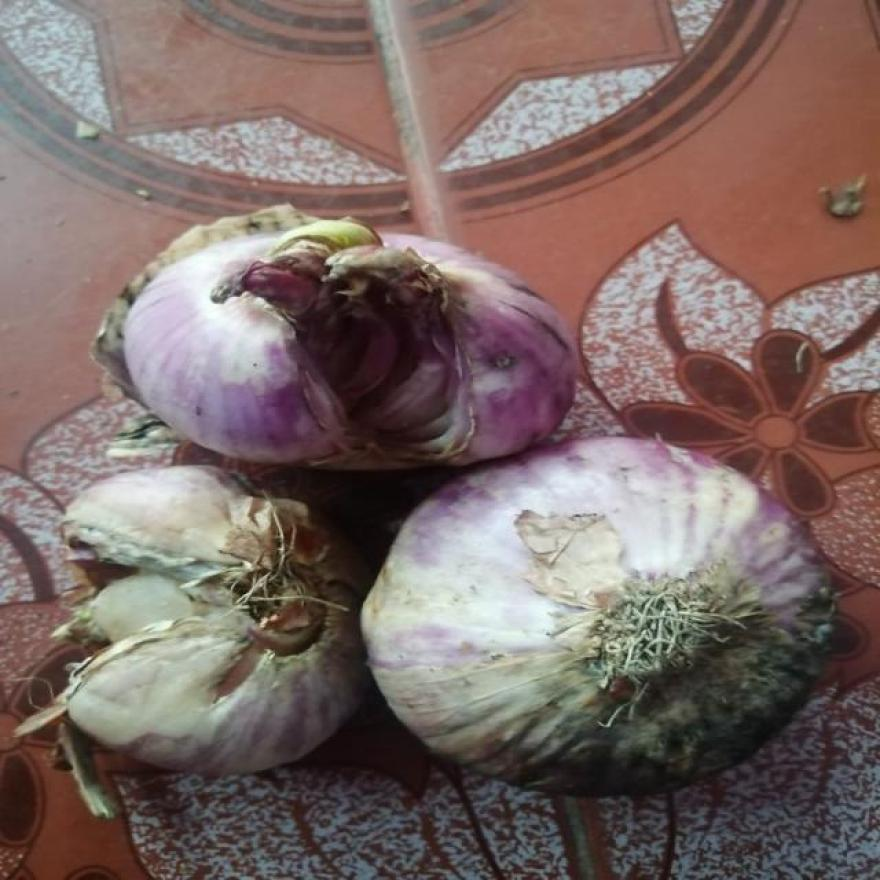Rotten: (558, 642, 836, 778), (286, 301, 470, 457), (55, 533, 202, 680)
Sprouted: (221, 226, 428, 295)
